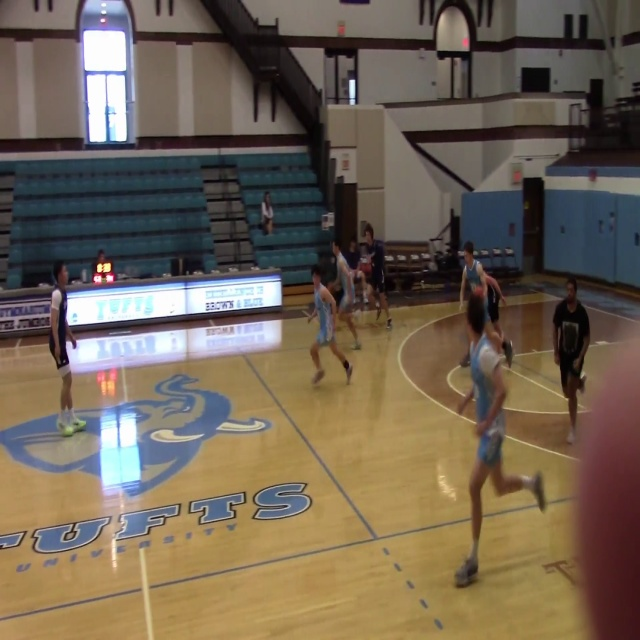Basketball: (561, 322, 579, 354), (359, 262, 373, 276), (473, 285, 484, 297)
